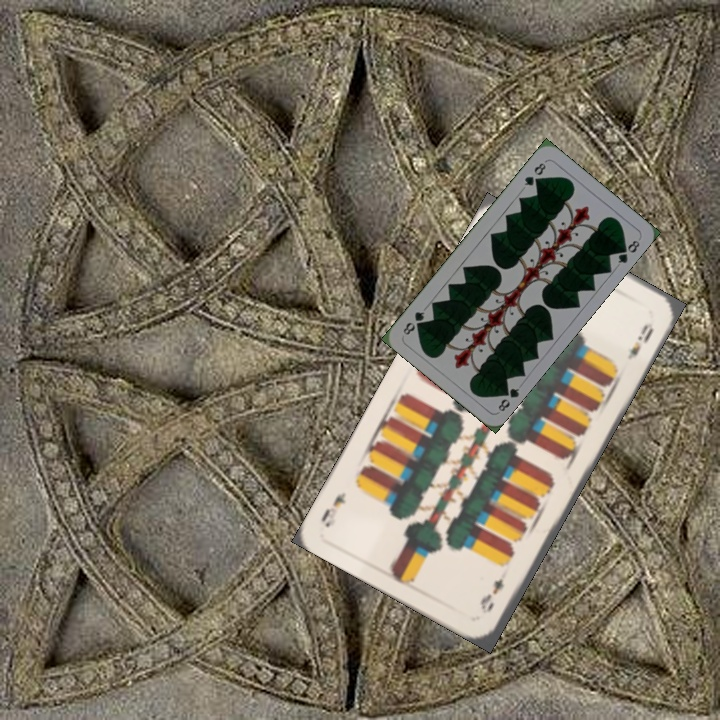E9: (476, 574, 507, 617)
G8: (494, 381, 522, 414), (520, 158, 549, 189)
